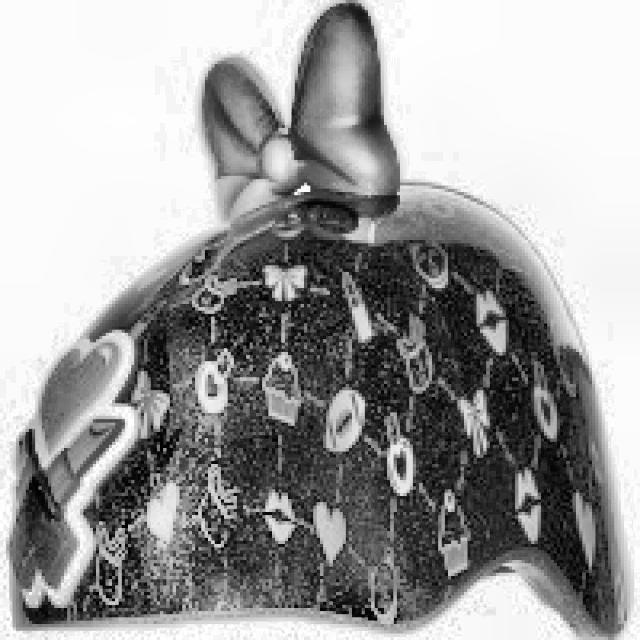Helmet: (19, 9, 640, 640)
